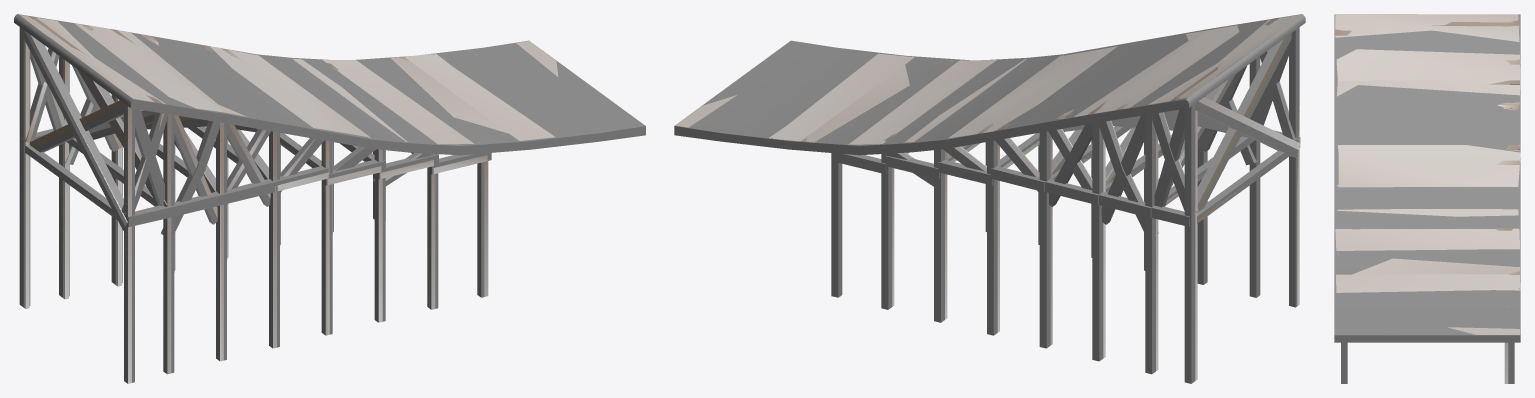
The model's file is ut_ramp_wood.DAE.
3 views of the same model, side by side, from view 1: azimuth 30°, elevation 25°; view 2: azimuth 150°, elevation 25°; view 3: azimuth 270°, elevation 25° (orthographic). The views are drawn at different scales.
Visible parts, largest first — view 1: colmesh-1, Ramp_platform_c130, Ramp_platform_c1000; view 2: colmesh-1, Ramp_platform_c130, Ramp_platform_c1000; view 3: colmesh-1, Ramp_platform_c130, Ramp_platform_c1000, Ramp_platform_c200.
Part boxes in pixels (x1,y1,x2,y2): colmesh-1: [14, 14, 645, 383]; Ramp_platform_c130: [20, 15, 558, 144]; Ramp_platform_c1000: [20, 15, 604, 383]; colmesh-1: [674, 14, 1305, 383]; Ramp_platform_c130: [675, 14, 1301, 144]; Ramp_platform_c1000: [742, 15, 1301, 380]; colmesh-1: [1334, 14, 1520, 383]; Ramp_platform_c130: [1335, 14, 1520, 334]; Ramp_platform_c1000: [1334, 22, 1519, 383]; Ramp_platform_c200: [1335, 20, 1520, 150].
Bounding box in the file's own units: 26.16 × 10.26 × 13.95.
